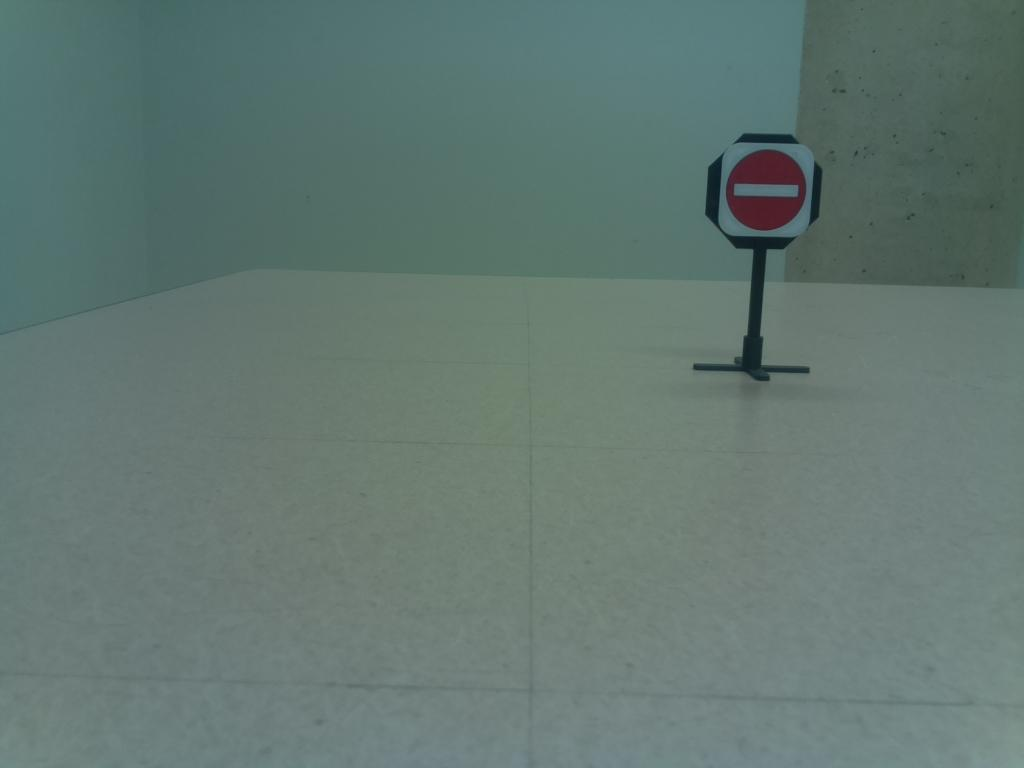sign_noentry: (700, 126, 828, 250)
